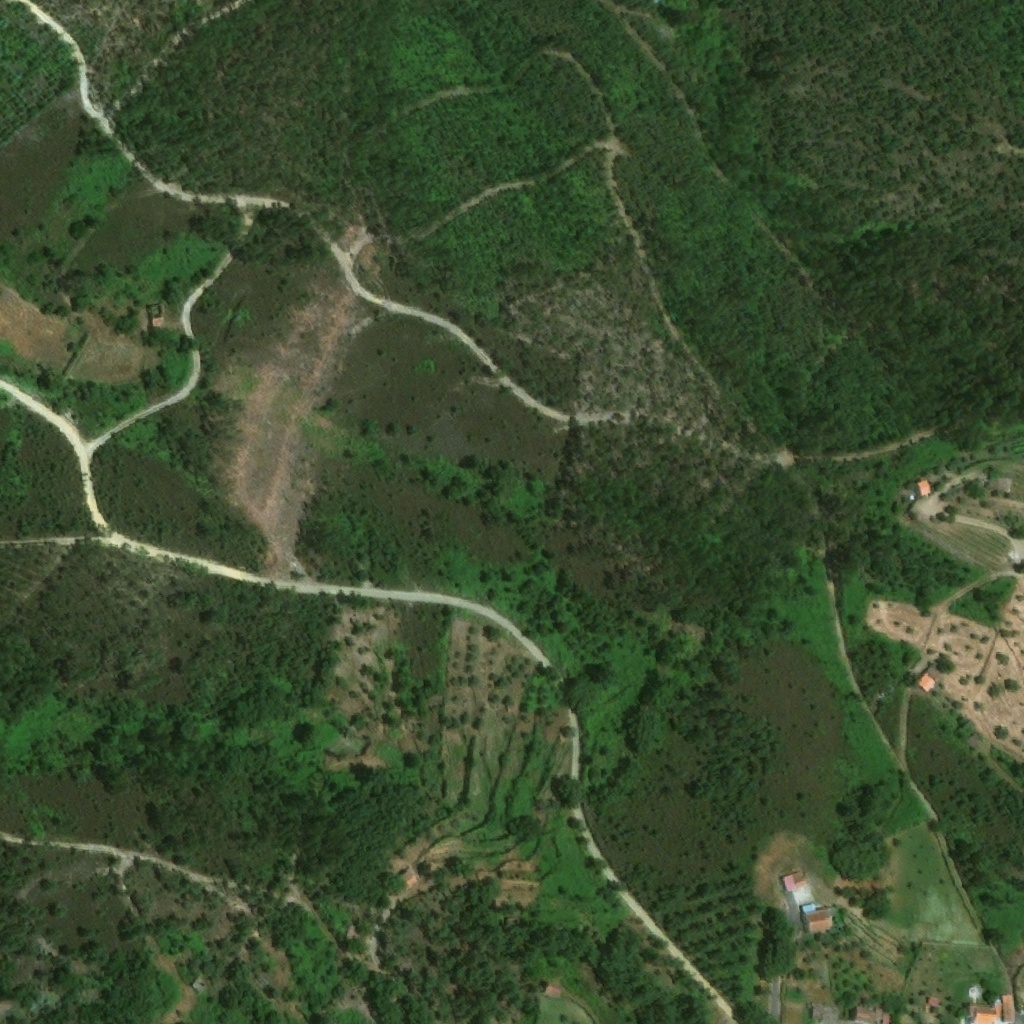0 no-damage: (967, 995, 1016, 1023), (802, 904, 833, 934), (915, 662, 946, 692), (782, 871, 809, 893), (853, 1006, 878, 1023), (912, 477, 931, 498), (929, 999, 940, 1008), (884, 1016, 891, 1023)
